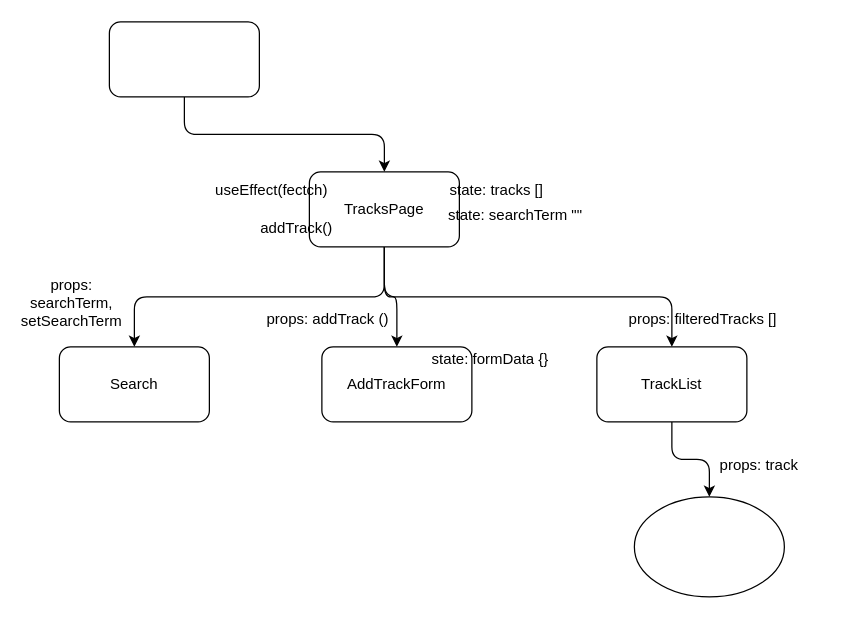
Some shapes in this 856 by 619 pixel diagram are drawn without their labels. Here are the shapes that lost their labels. From the top down, the box of each, then its label:
(108, 21, 259, 97): App
(633, 496, 784, 597): Track
